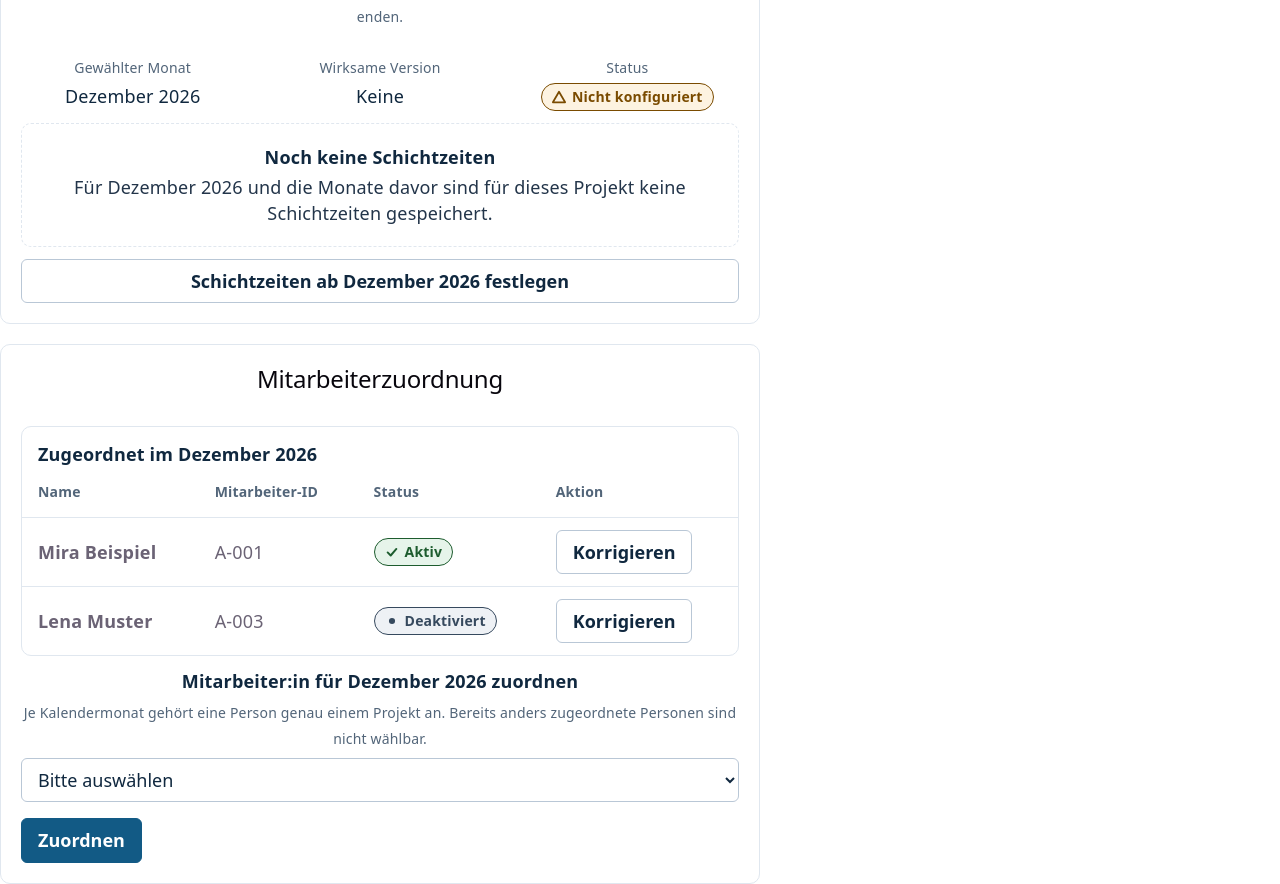
Test: SP-09 correction — opening the form › a historical assignment of a now inactive person keeps that person as the current, labelled value
(page scrolled)
Click the button with aria-label "Zuordnung von Lena Muster korrigieren" at (624, 621), box [556,599,692,643]
(page scrolled)
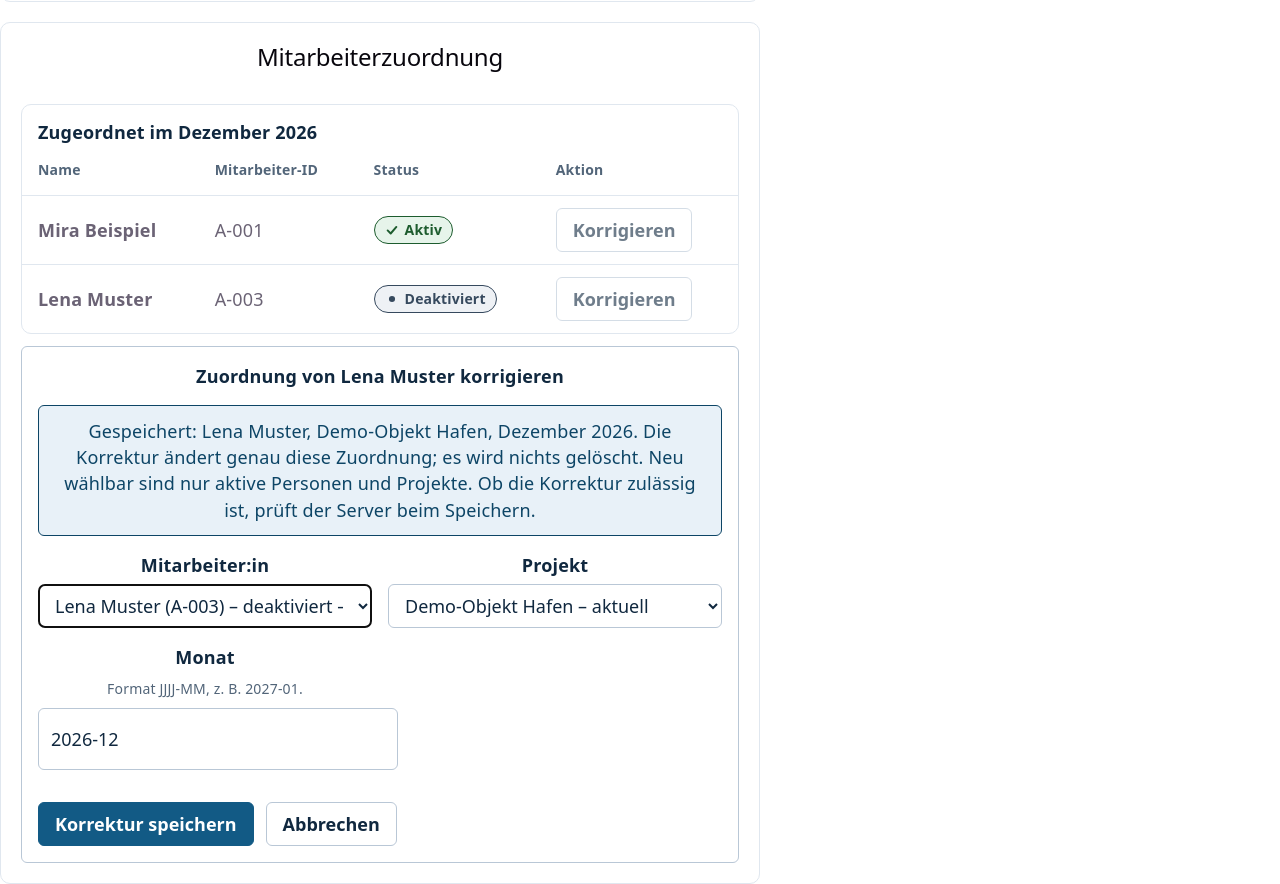
Check: the dropdown labelled "Mitarbeiter:in" shows "Lena Muster (A-003) – deaktiviert – aktuell", box [38,584,372,628]
